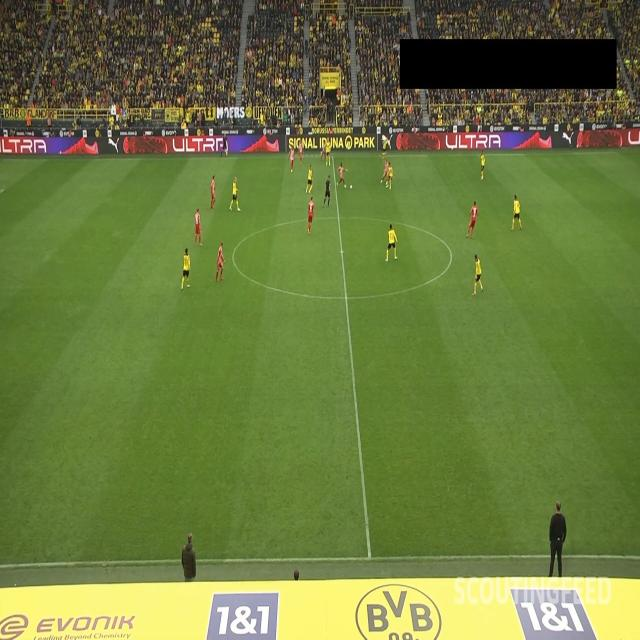ball: (349, 184, 353, 190)
